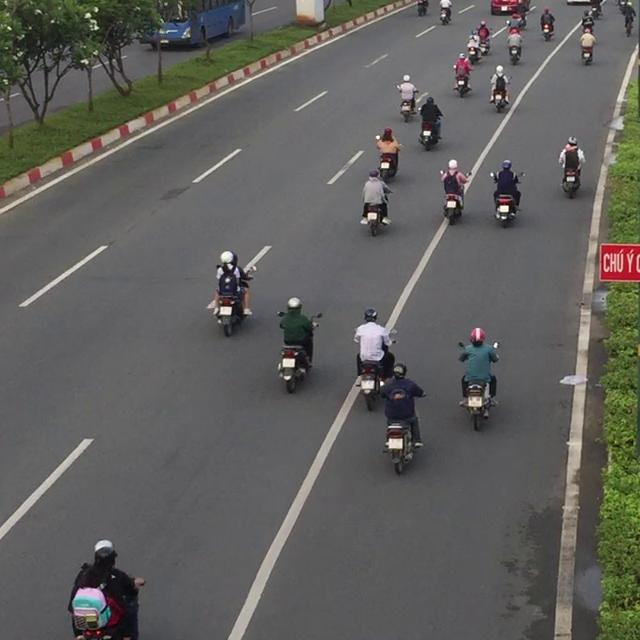Motorcycle: (457, 341, 500, 431), (380, 391, 426, 475), (276, 311, 322, 393), (354, 328, 397, 411), (212, 273, 253, 337), (489, 171, 524, 227), (440, 171, 472, 225), (361, 190, 392, 236), (559, 148, 585, 198), (374, 135, 402, 180), (418, 114, 442, 151), (396, 86, 419, 123), (489, 75, 511, 113), (452, 66, 472, 98)
